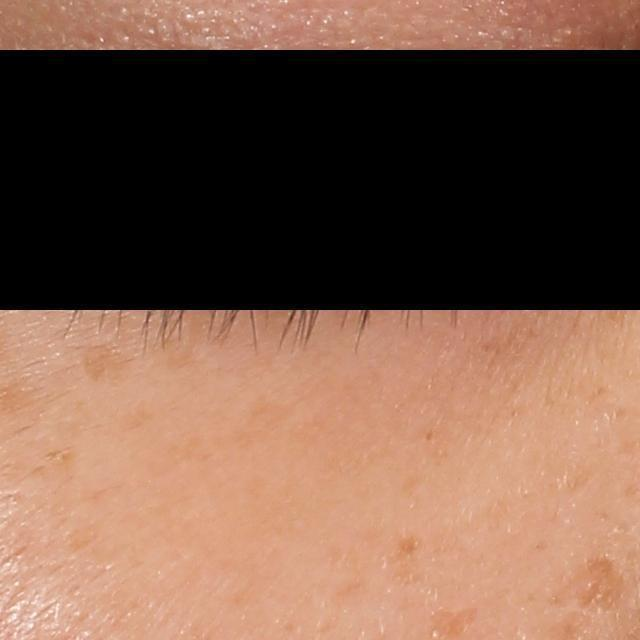melasma: (85, 346, 146, 386)
